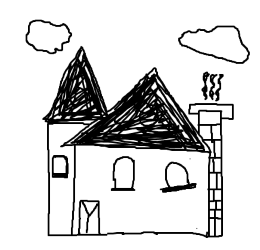clouds: (172, 16, 255, 65), (19, 15, 75, 55)
door: (75, 195, 108, 243)
open_window: (157, 157, 199, 197), (107, 152, 141, 197), (46, 148, 74, 181)
shaded_roof: (64, 48, 216, 153), (38, 44, 126, 131)
smoking_chimney: (187, 64, 237, 154)
wall: (68, 140, 216, 241)
